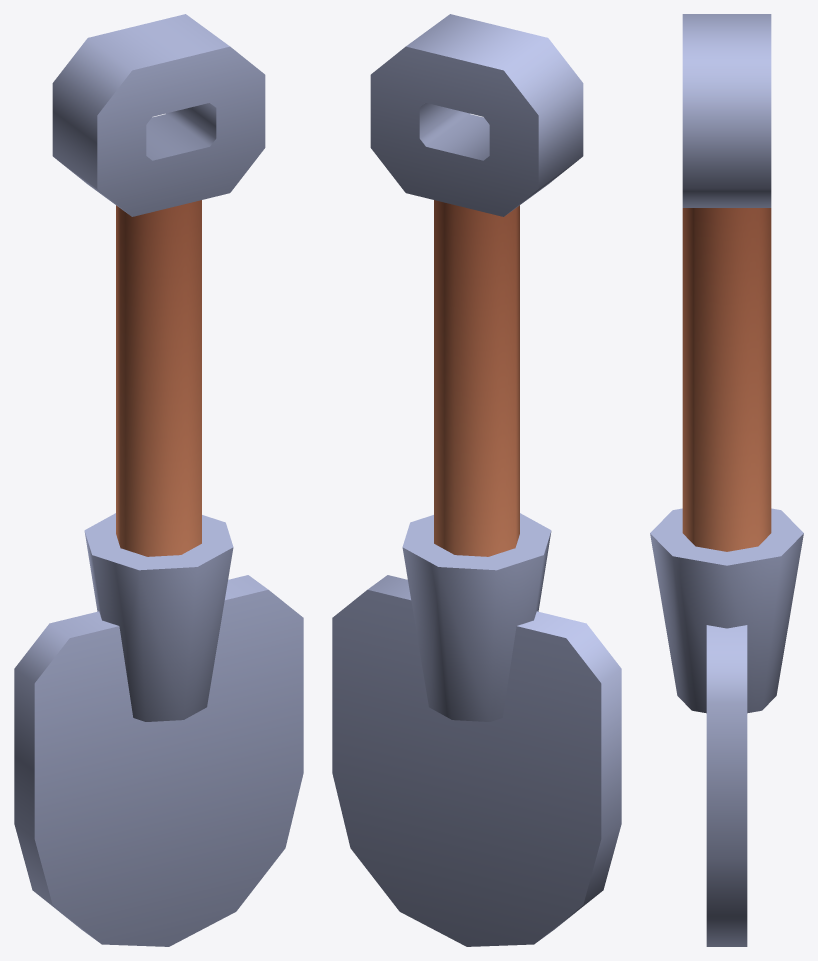
The model's file is shovel.glb.
3 renders of one model, left to right at view 1: azimuth 30°, elevation 25°; view 2: azimuth 150°, elevation 25°; view 3: azimuth 270°, elevation 25°, orthographic.
Parts seen in each view (by area): view 1: shovel; view 2: shovel; view 3: shovel.
Part boxes in pixels (x1,y1,x2,y2): shovel: [14, 14, 303, 946]; shovel: [332, 14, 621, 946]; shovel: [650, 14, 803, 946].
Bounding box in the file's own units: 3.84 × 12.24 × 1.91.
Materials: 1 (1 with a texture image).
